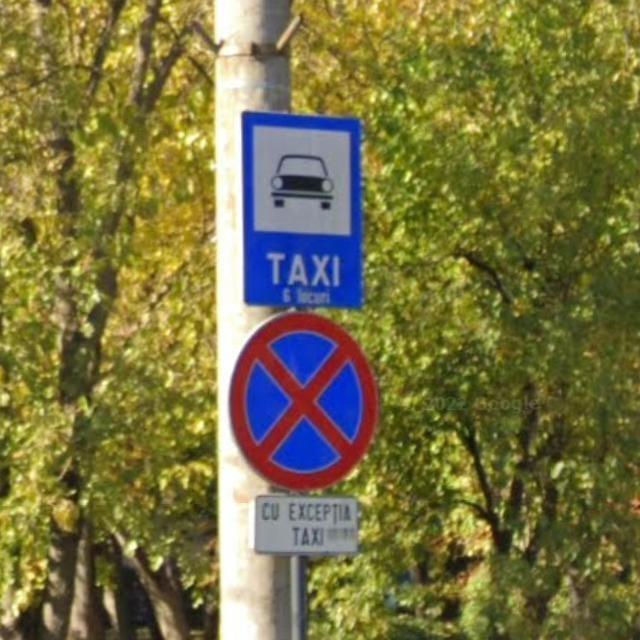forb_waiting: (227, 312, 378, 492)
